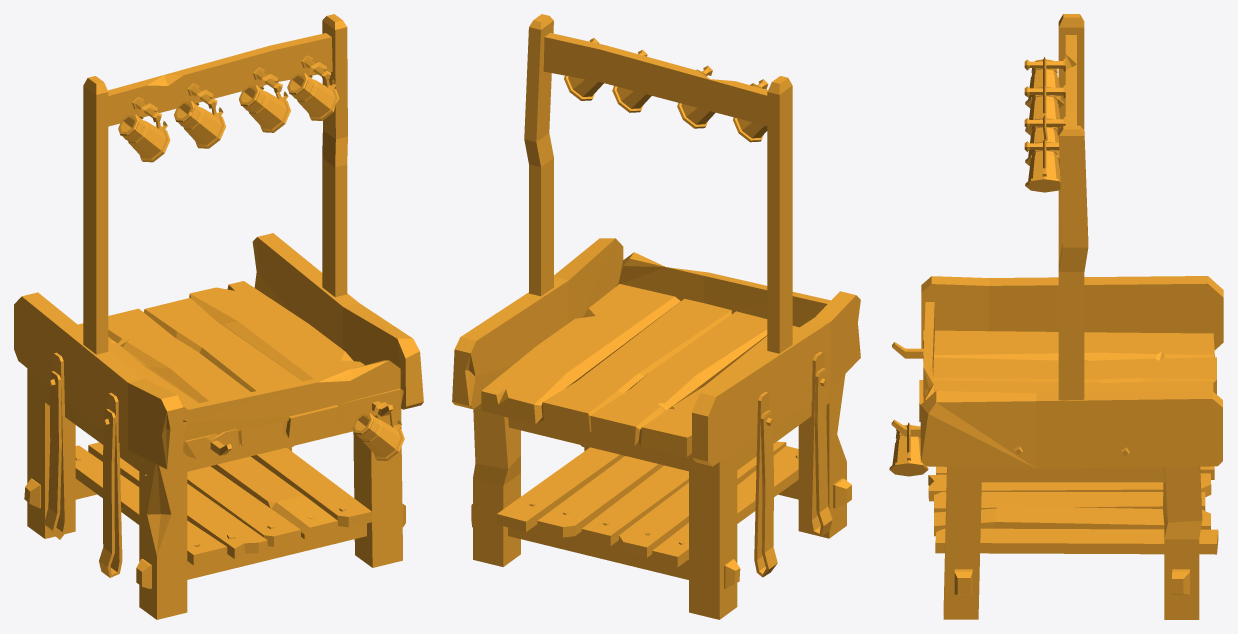
The model's file is SM_Table_Tap_A_Empty_Fantasy.fbx.
3 views of the same model, side by side, from view 1: azimuth 30°, elevation 25°; view 2: azimuth 150°, elevation 25°; view 3: azimuth 270°, elevation 25° (orthographic).
Parts seen in each view (by area): view 1: table-tap-a-empty-fantasy; view 2: table-tap-a-empty-fantasy; view 3: table-tap-a-empty-fantasy.
Boxes of the visible parts, x1=… form: table-tap-a-empty-fantasy: x1=14, y1=14, x2=423, y2=619; table-tap-a-empty-fantasy: x1=452, y1=14, x2=860, y2=619; table-tap-a-empty-fantasy: x1=889, y1=14, x2=1223, y2=619.
Size of the model in its own units: 1.22 by 2.1 by 1.3.
